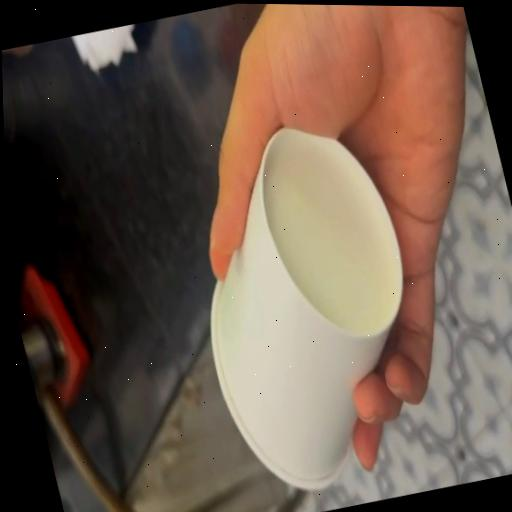Ly_giay: (210, 126, 402, 488)
